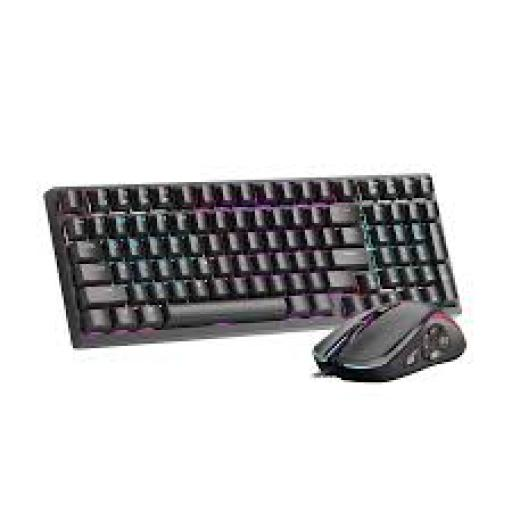KEYBOARD-2: (46, 173, 457, 346)
